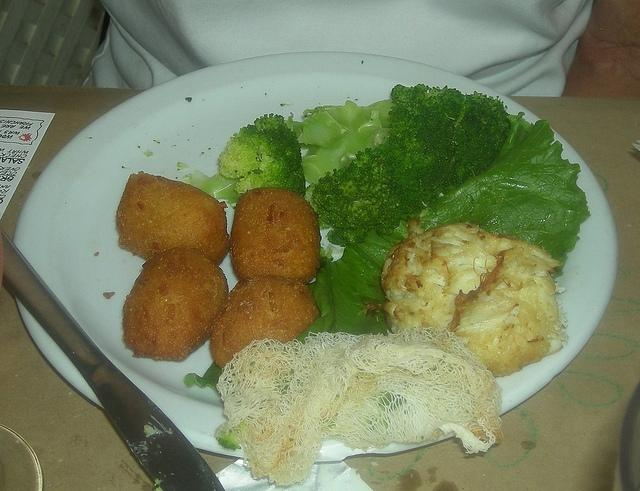broccoli: (180, 112, 306, 204), (376, 120, 470, 214), (298, 100, 390, 184), (311, 147, 404, 229), (442, 91, 510, 195), (388, 83, 466, 136)
lettuce: (420, 113, 589, 278), (295, 229, 392, 344)
